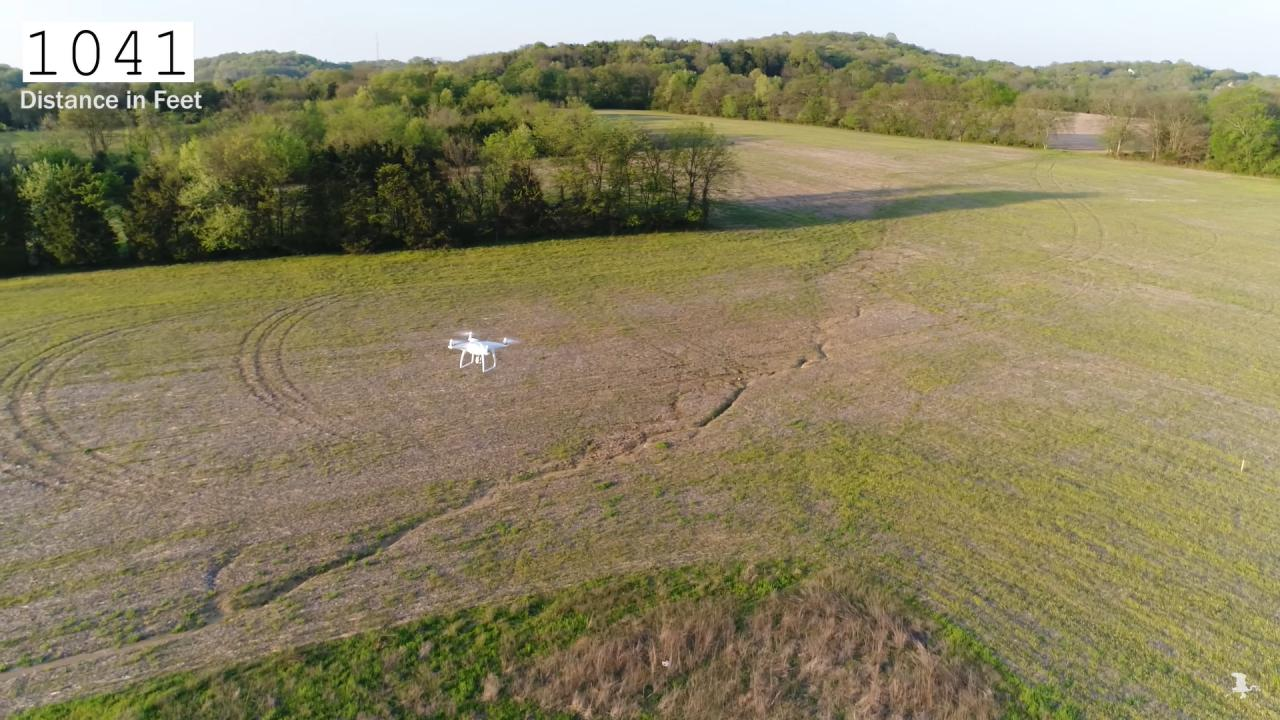Drone: (432, 320, 528, 385)
